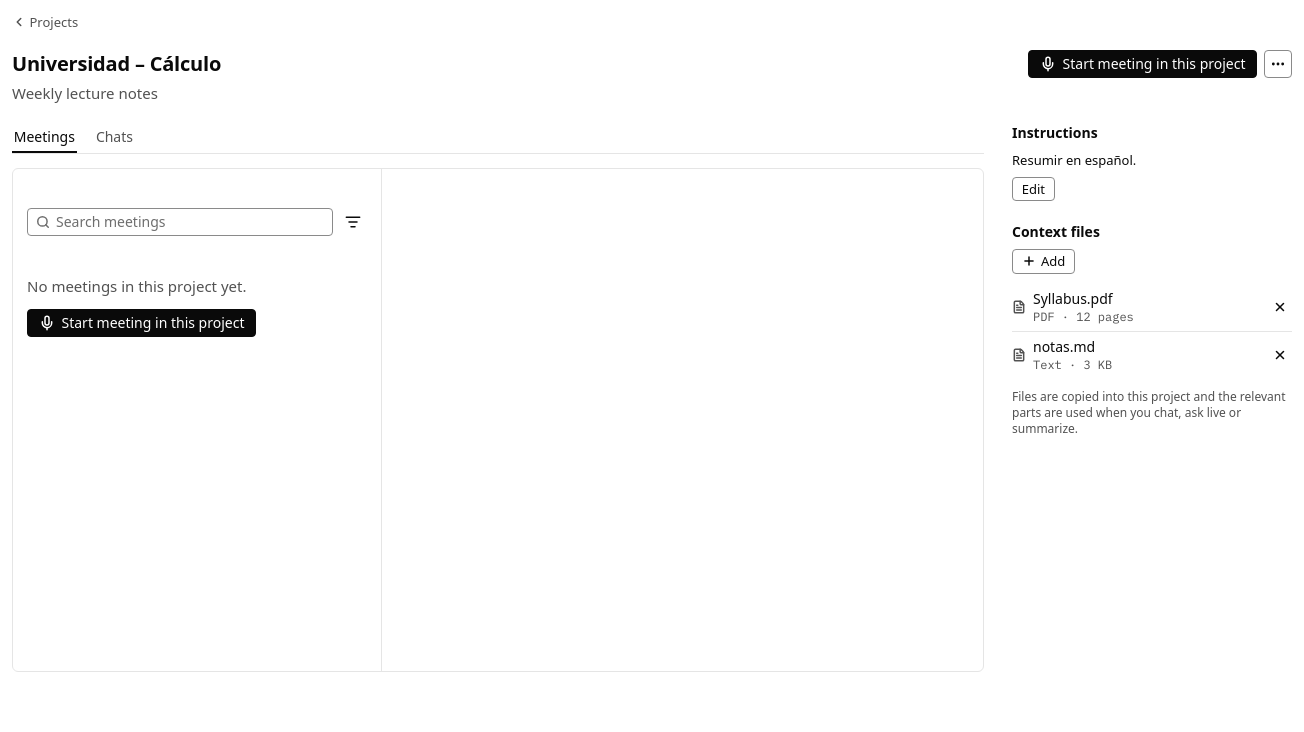
Test case: the header › leaving the field saves it
The width and height of the screenshot is (1304, 732).
Click the button named "Project actions": point(1278, 64) [1264,50,1292,78]
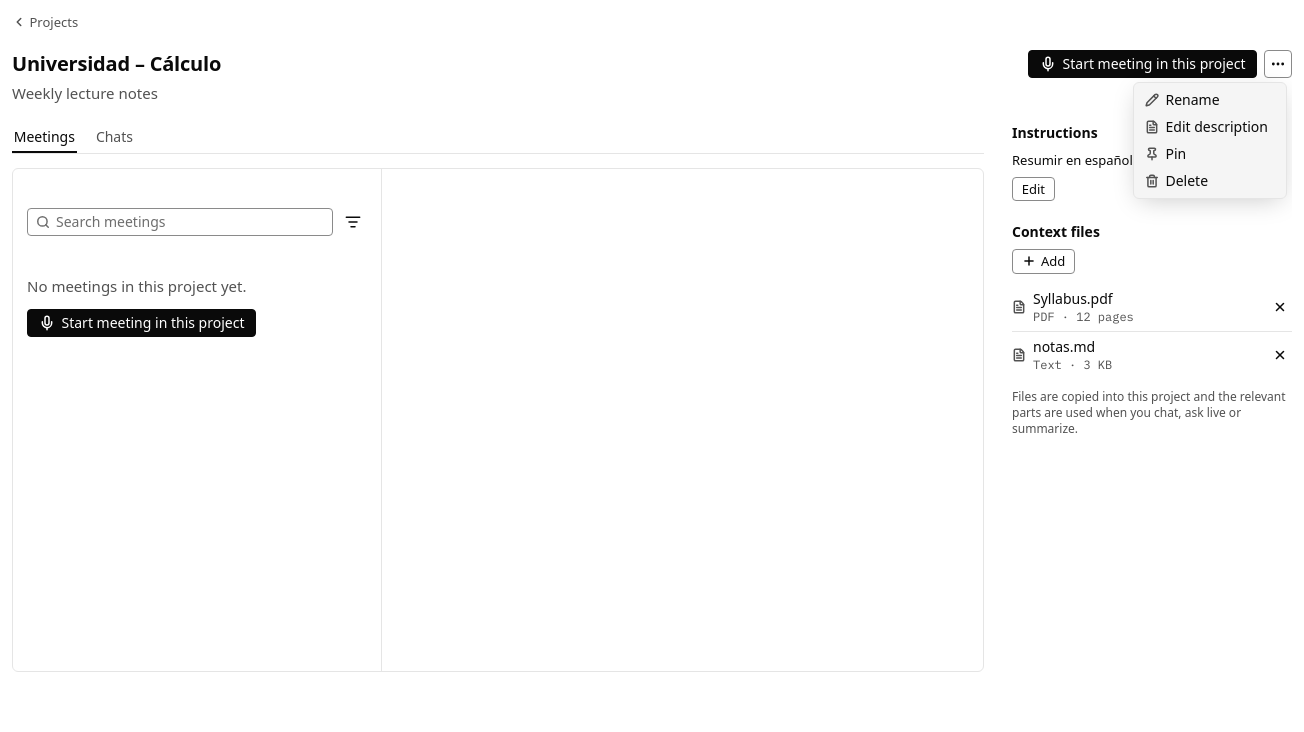
Click the menu item "Rename": point(1182, 100) [1144,90,1220,109]
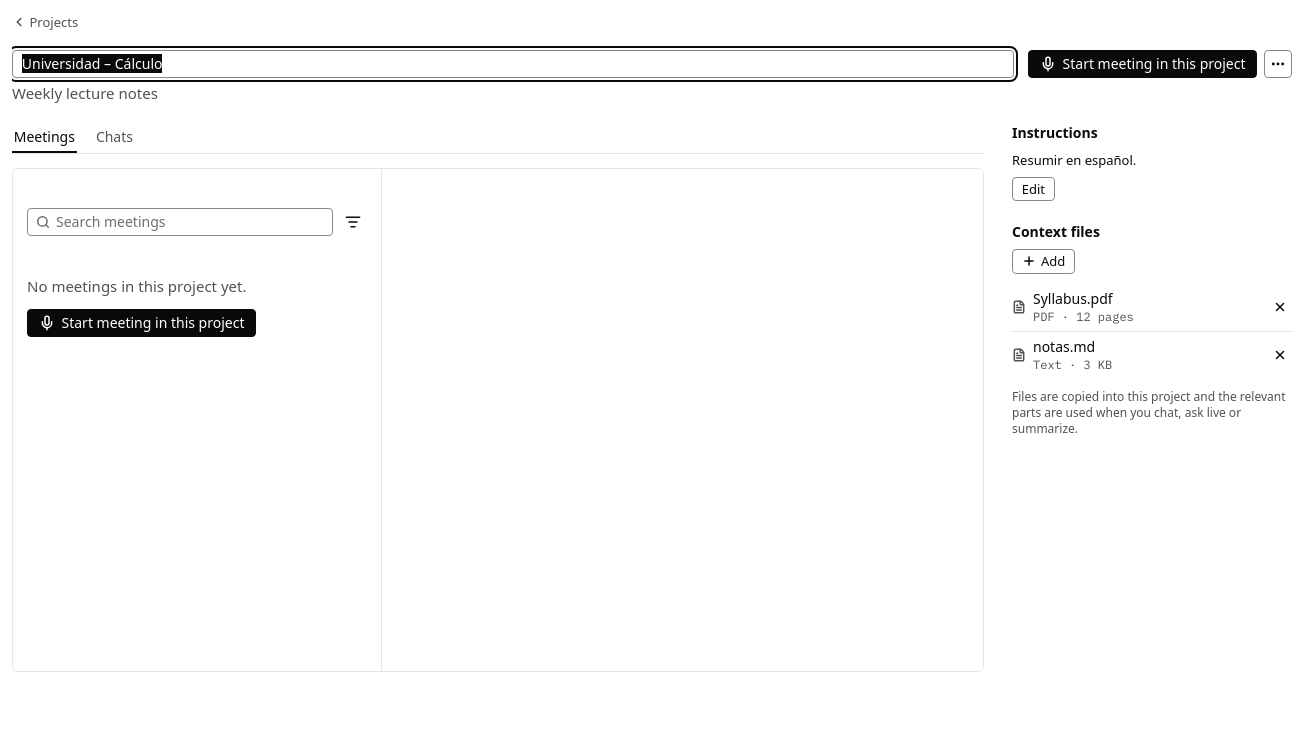
Replace the text in the field named "Name" with "Nuevo nombre": point(513, 64) [12,50,1014,78]
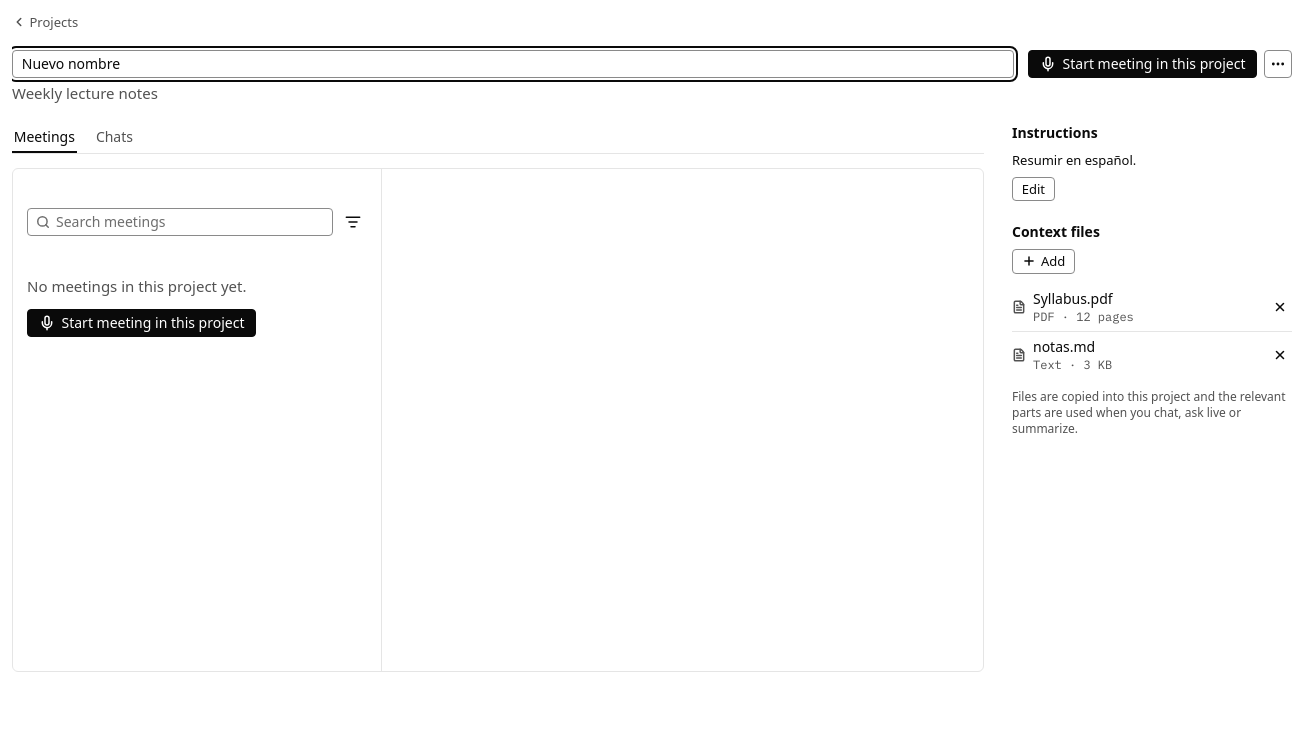
Press Tab
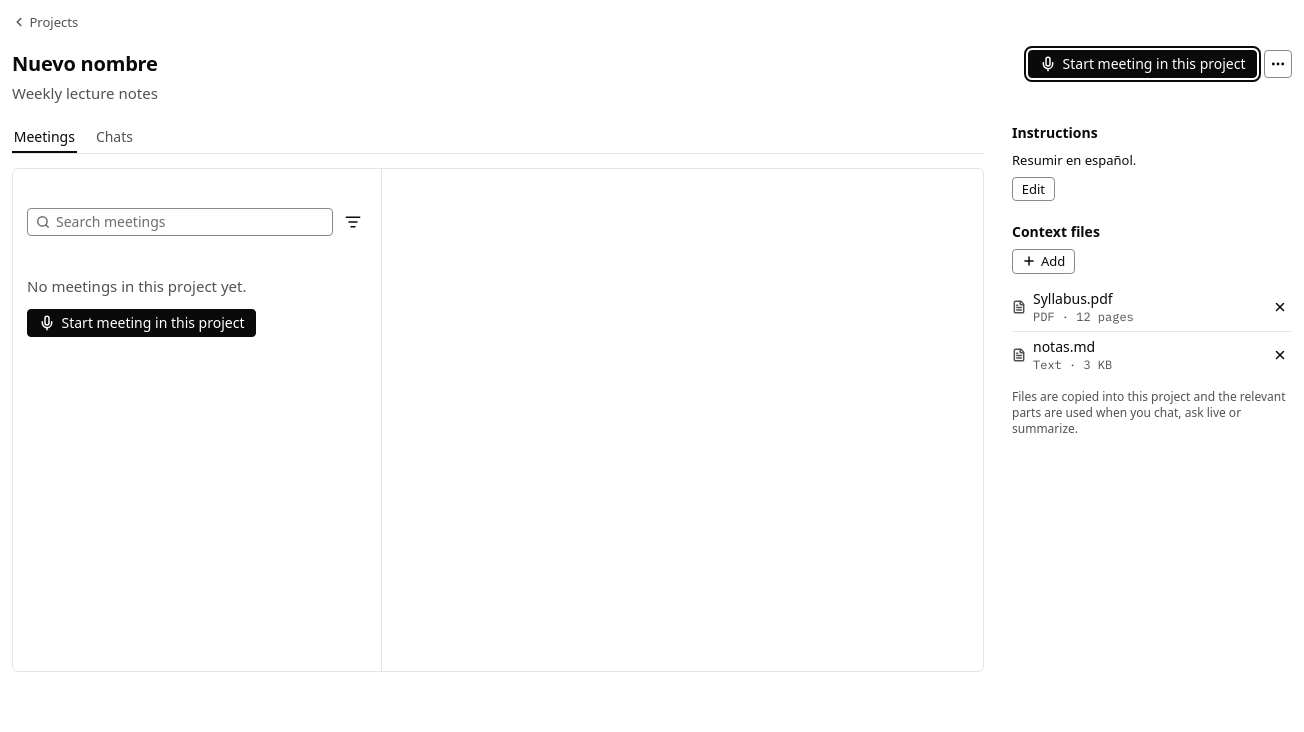
Result: the heading "Nuevo nombre" is shown at [12,50,158,76]
